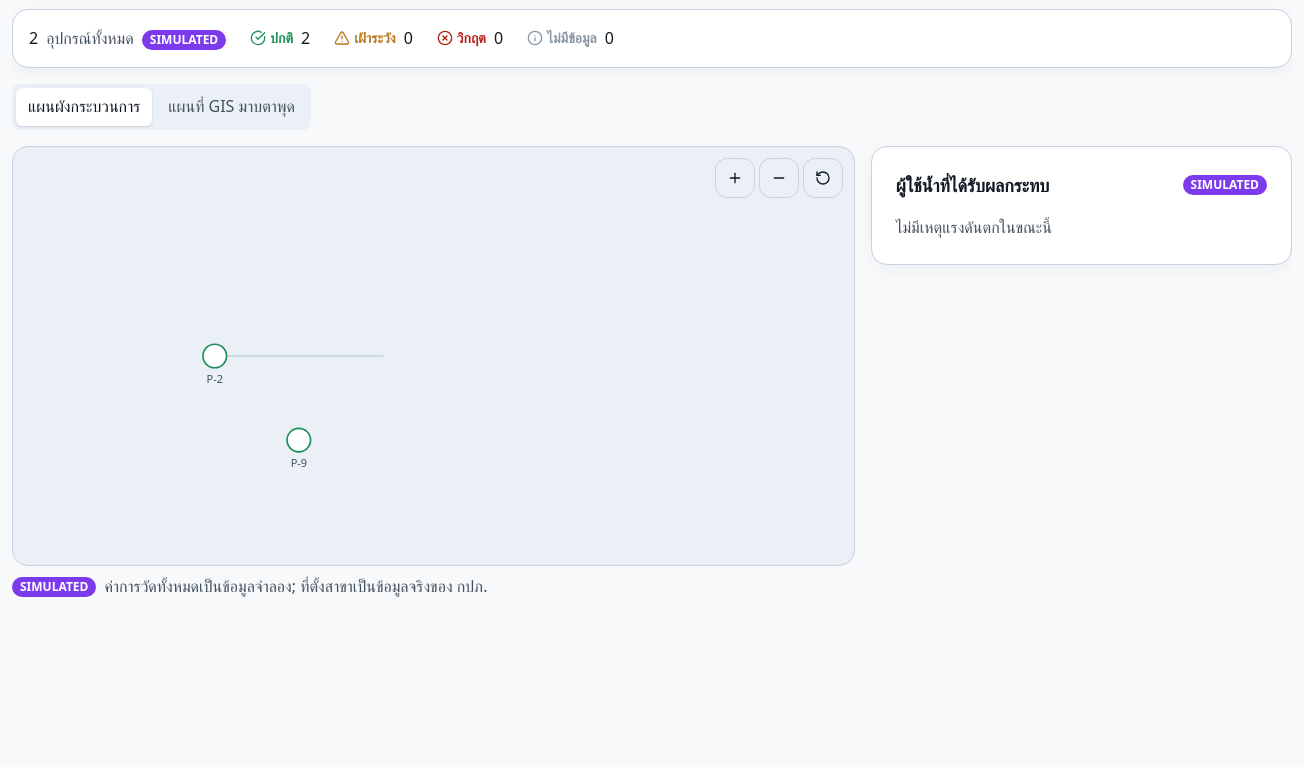
Test case: OperationsTwinScreen GIS view › shows the pipe-details prompt and wires marker click → bound pipe's REAL attributes
The width and height of the screenshot is (1304, 767).
Check: the element showing "แผนผังกระบวนการ แผนที่ GIS มาบตาพุด" is shown, box [12,84,311,130]
Click the tab "แผนที่ GIS มาบตาพุด" at point(232, 107), box [156,88,307,126]
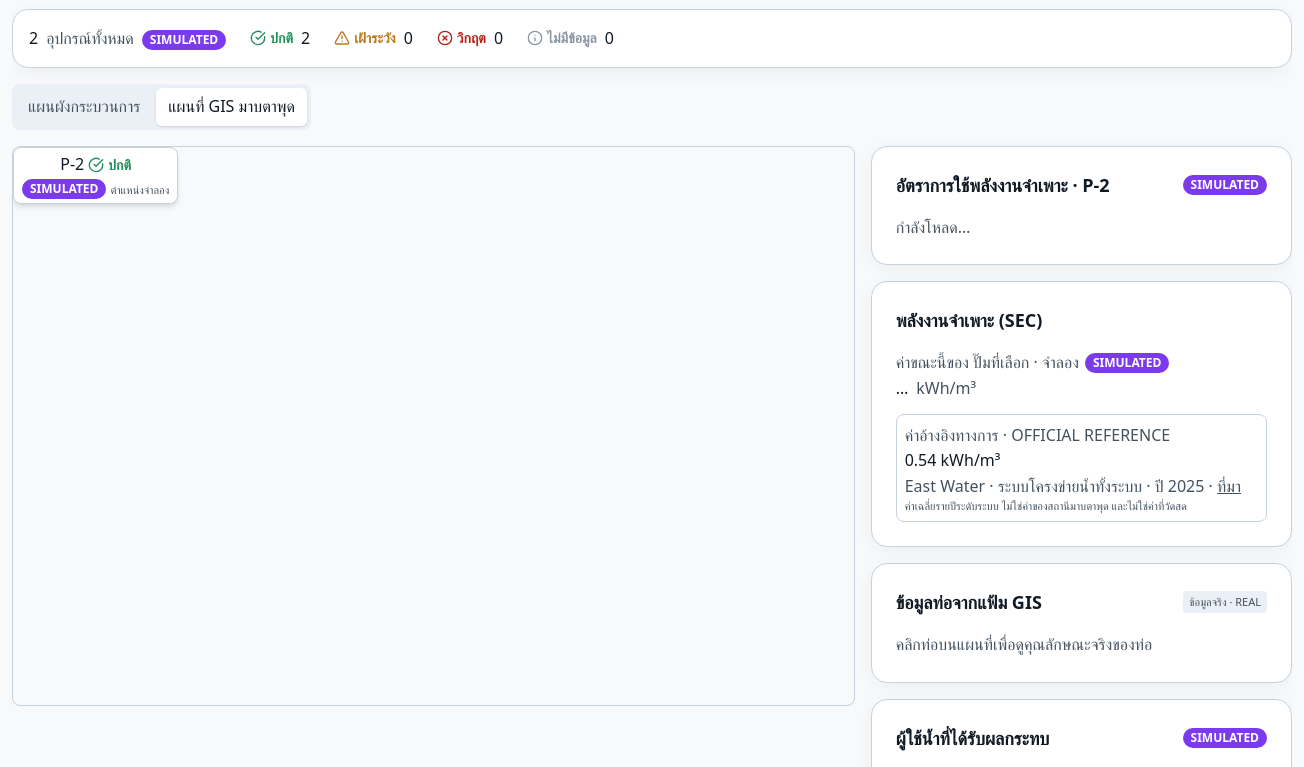
Check: the element with test id "gis-network-view" is shown, box [12,146,855,706]
Check: the element with test id "gis-pipe-details" shows "คลิกท่อบนแผนที่", box [896,633,1152,655]
Click the button with test id "gis-device-marker" at point(96, 176), box [13,147,178,204]
(page scrolled)
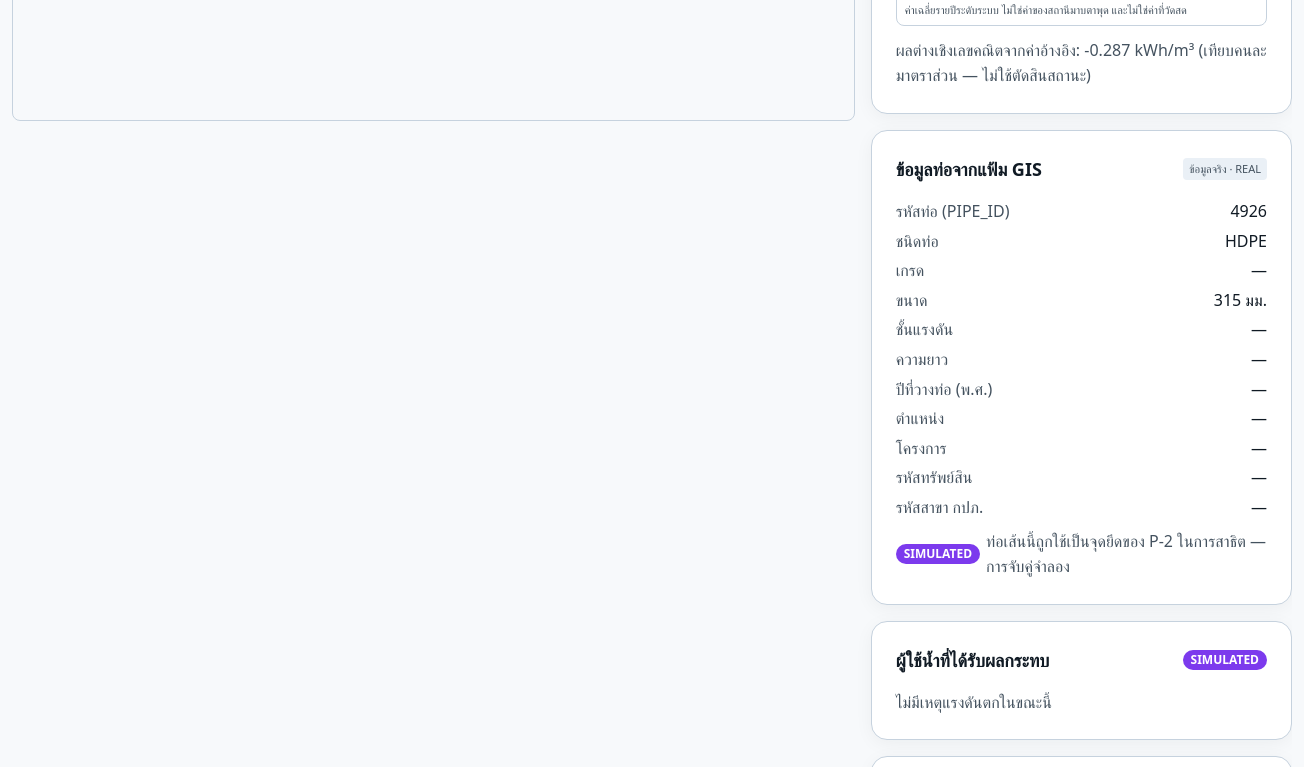
Check: the element with test id "gis-pipe-details" shows "4926", box [1230,200,1267,222]
Check: the element with test id "gis-pipe-details" shows "การจับคู่จำลอง", box [986,530,1266,577]
